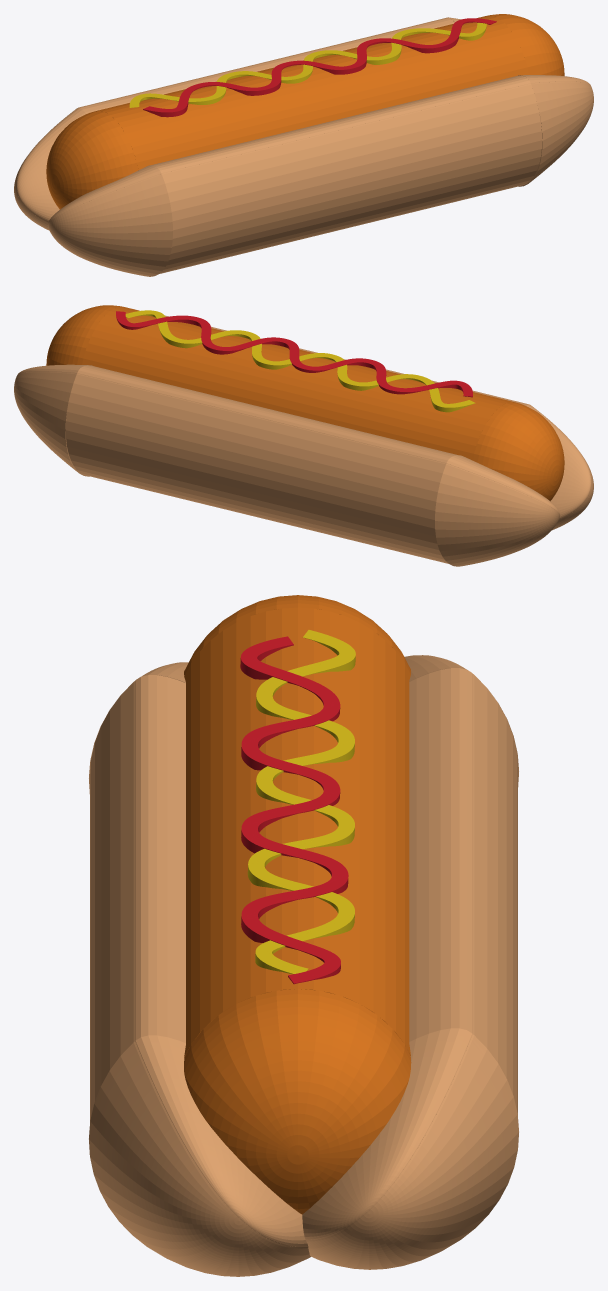
Rendered from hotdog.glb.
3 renders of one model, top to bottom at view 1: azimuth 30°, elevation 25°; view 2: azimuth 150°, elevation 25°; view 3: azimuth 270°, elevation 25°, orthographic. The views are drawn at different scales.
Visible parts, largest first — view 1: Mesh_Mesh_head_geo001_lambert2SG001; view 2: Mesh_Mesh_head_geo001_lambert2SG001; view 3: Mesh_Mesh_head_geo001_lambert2SG001.
Boxes of the visible parts, x1=… form: Mesh_Mesh_head_geo001_lambert2SG001: x1=14, y1=14, x2=593, y2=276; Mesh_Mesh_head_geo001_lambert2SG001: x1=14, y1=305, x2=593, y2=566; Mesh_Mesh_head_geo001_lambert2SG001: x1=89, y1=595, x2=518, y2=1276.
Size of the model in its own units: 146 by 38.59 by 50.45.
